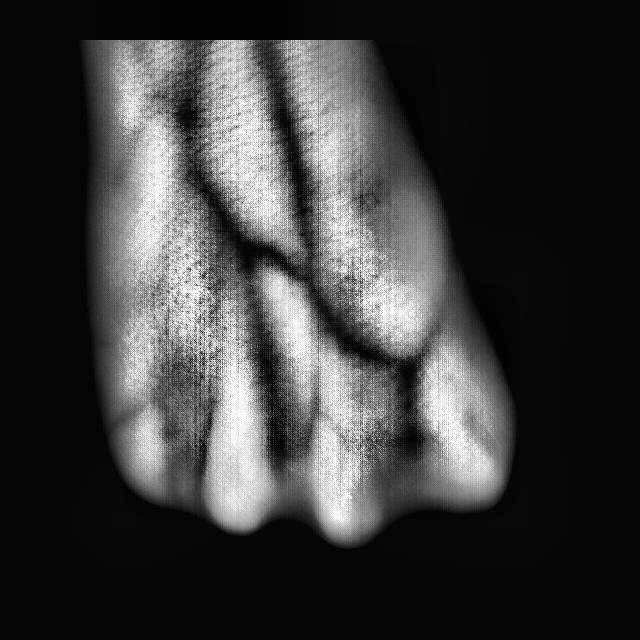Vein: (260, 56, 319, 247)
